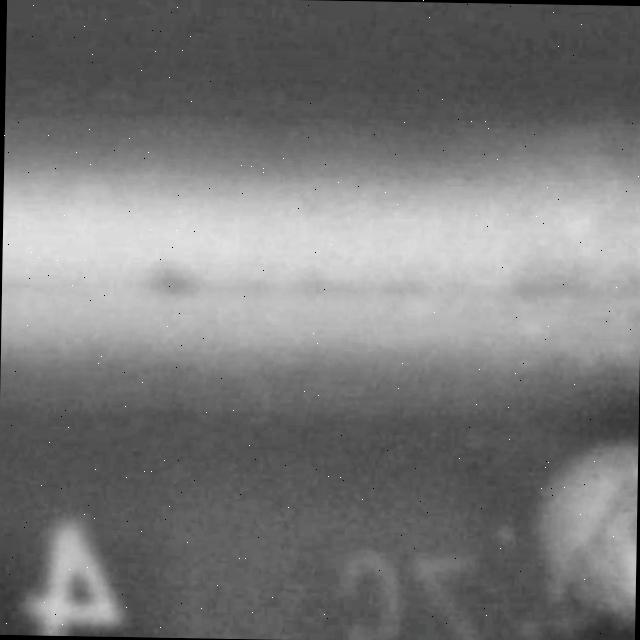LoP-LoF: (16, 235, 640, 327)
